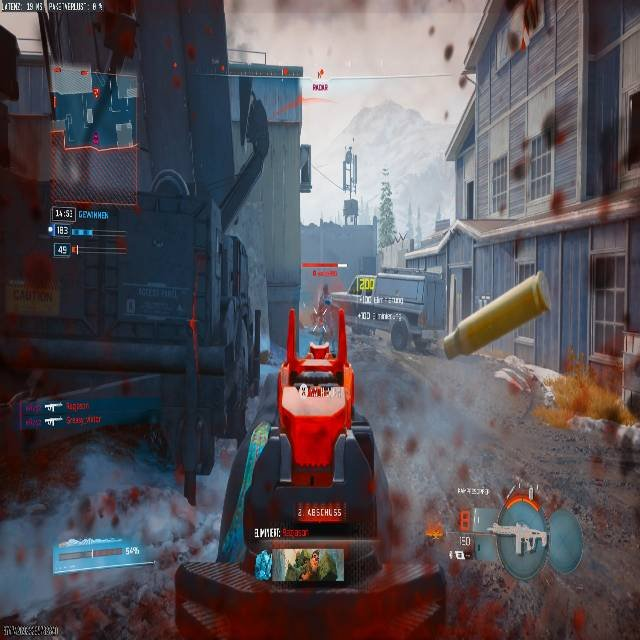player: (316, 284, 333, 320), (91, 130, 99, 146)
